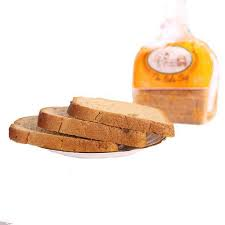bread: (6, 82, 164, 165), (136, 23, 221, 135)
